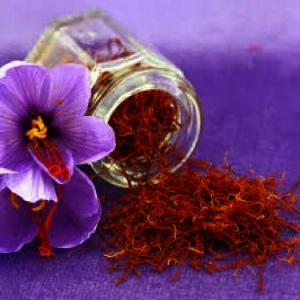Saffron: (0, 58, 116, 199), (0, 163, 104, 250)
